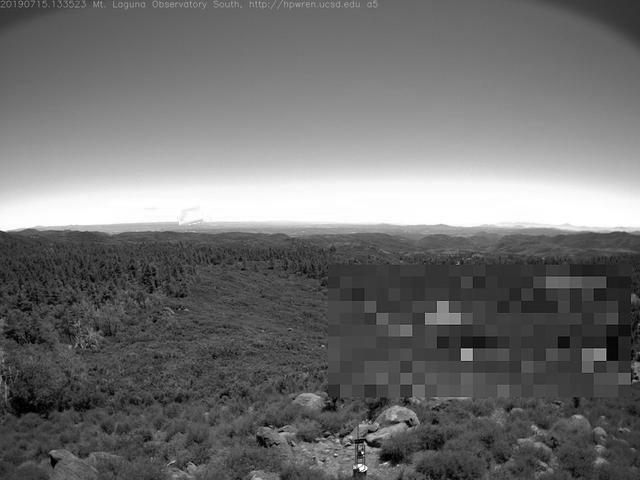smoke: (177, 201, 204, 226)
